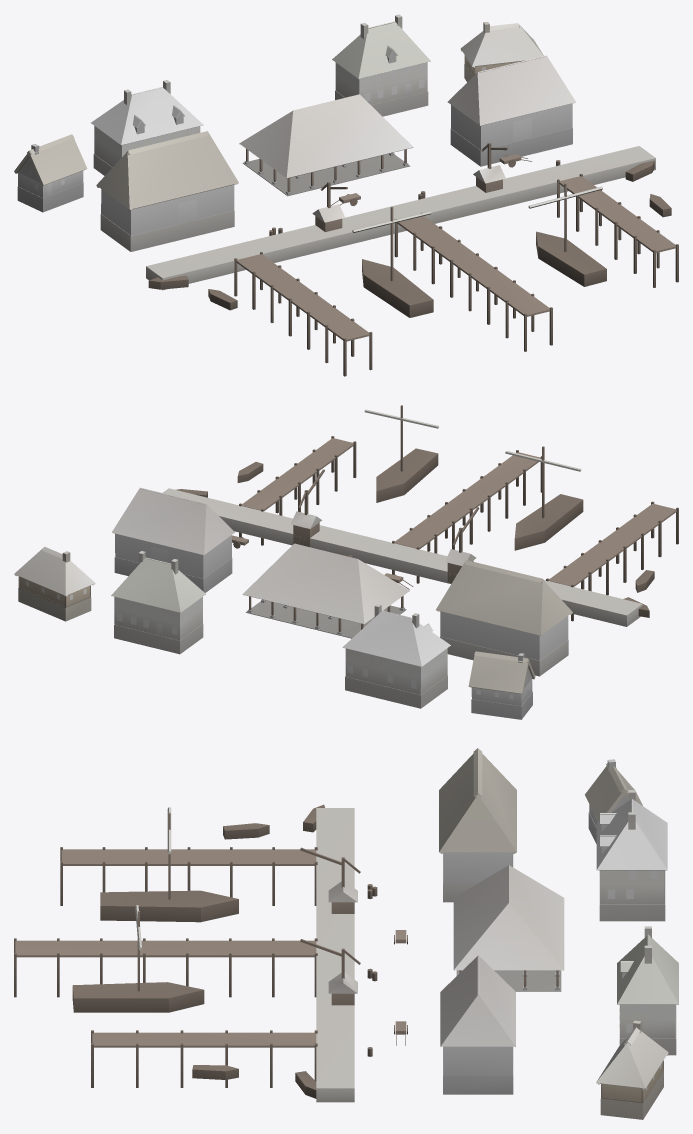
File: port_3.glb
3 views of the same model, one above another, from view 1: azimuth 30°, elevation 25°; view 2: azimuth 150°, elevation 25°; view 3: azimuth 270°, elevation 25° (orthographic). The views are drawn at different scales.
Parts seen in each view (by area): view 1: port_3; view 2: port_3; view 3: port_3.
Boxes of the visible parts, x1,y1,x2,y2 form: port_3: (14, 14, 678, 376); port_3: (14, 405, 678, 719); port_3: (14, 748, 678, 1119).
Bounding box in the file's own units: 91.46 × 18.7 × 86.21.
